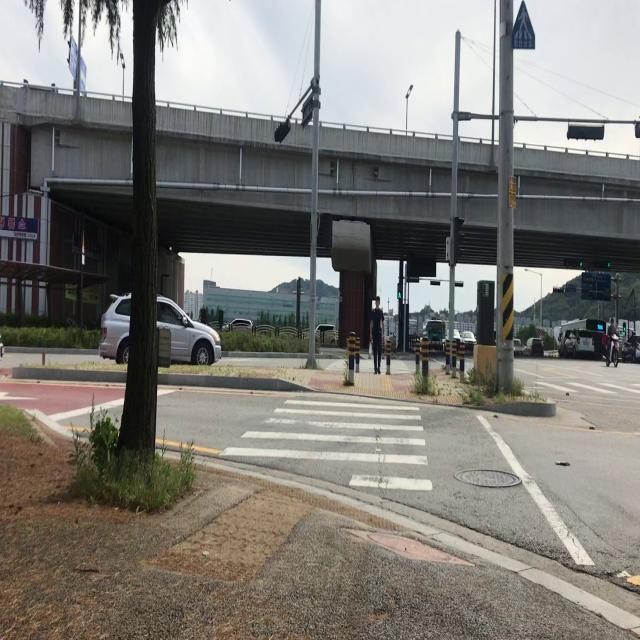초록불: (397, 281, 403, 302), (622, 321, 628, 338)
횡단보도: (216, 398, 433, 492), (516, 377, 640, 400), (326, 352, 412, 378)
